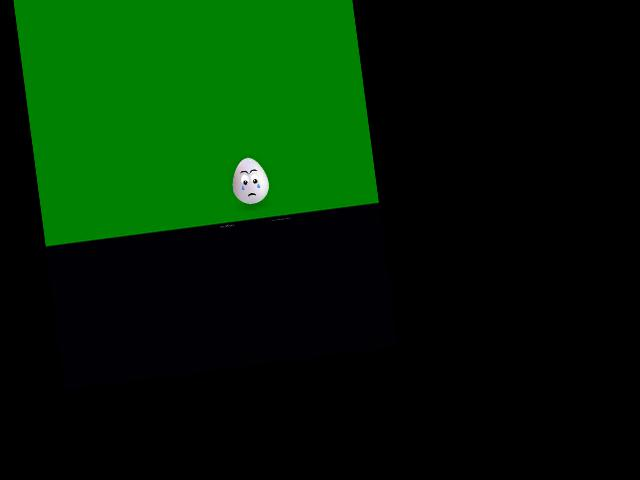egg: (229, 155, 271, 206)
